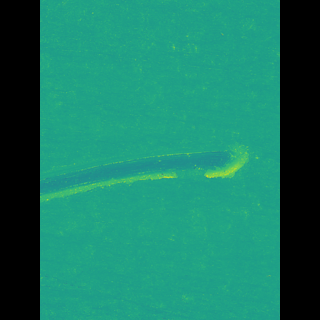Loch: (69, 139, 230, 207)
